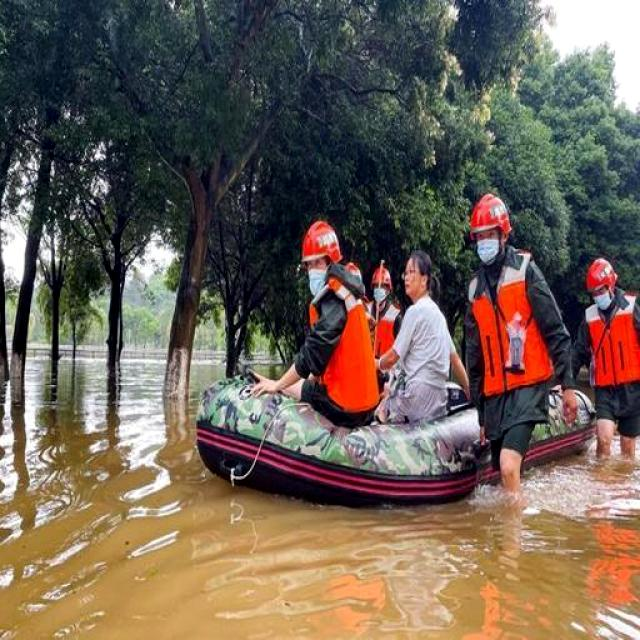civilian: (373, 236, 478, 454)
rescuer: (448, 197, 569, 516), (255, 219, 388, 447), (551, 229, 640, 482), (365, 243, 400, 399), (338, 255, 376, 354)
